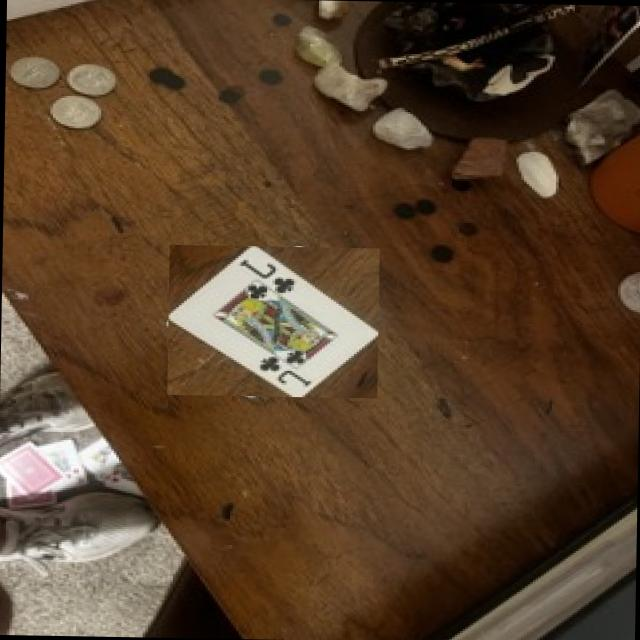Jack of clubs: (168, 247, 376, 397)
